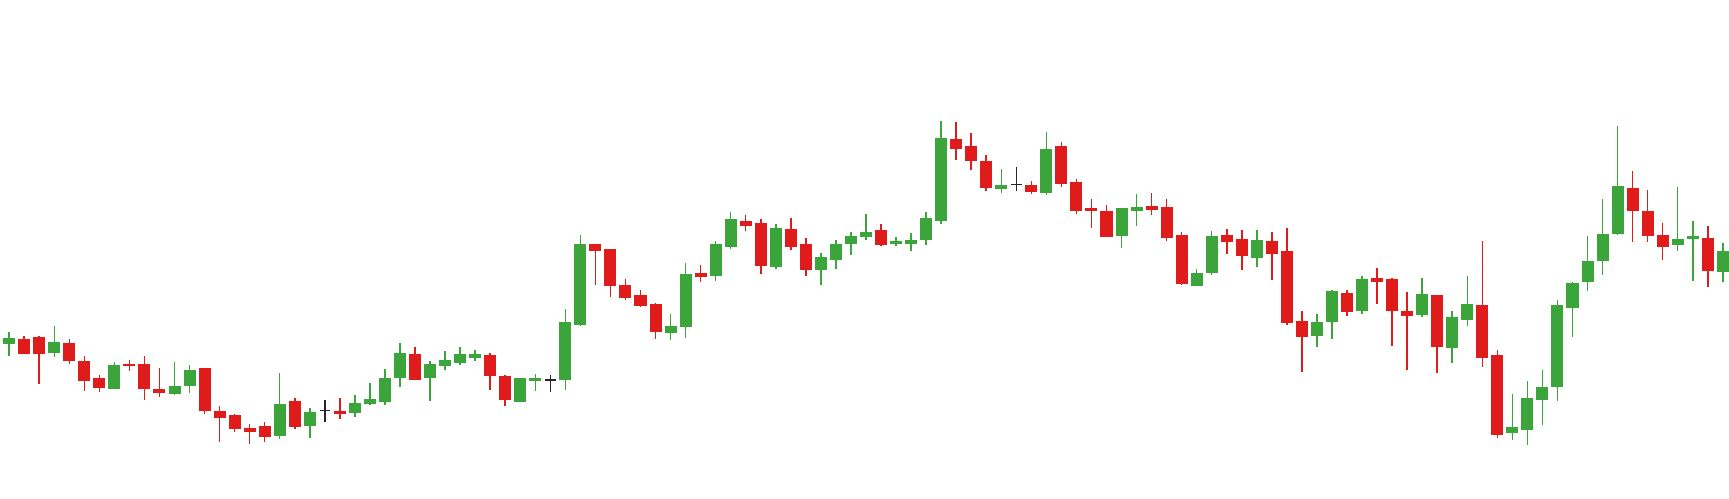buy: (423, 364, 528, 411)
